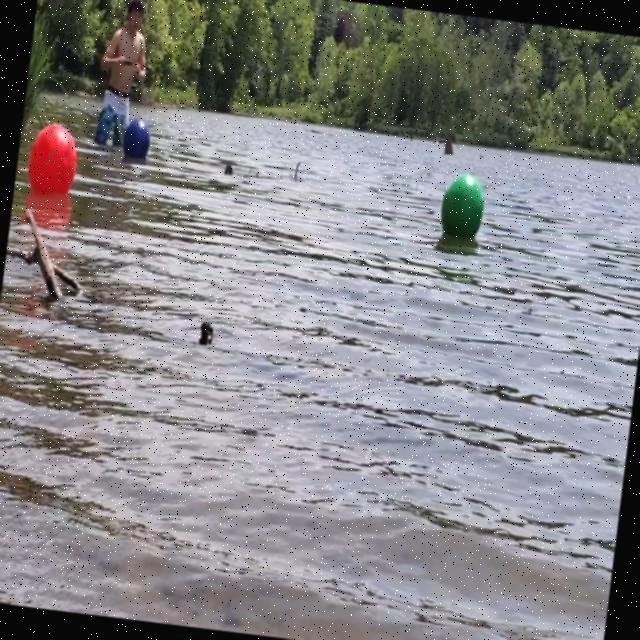buoy: (21, 116, 83, 202), (435, 170, 489, 250), (118, 114, 154, 168)
